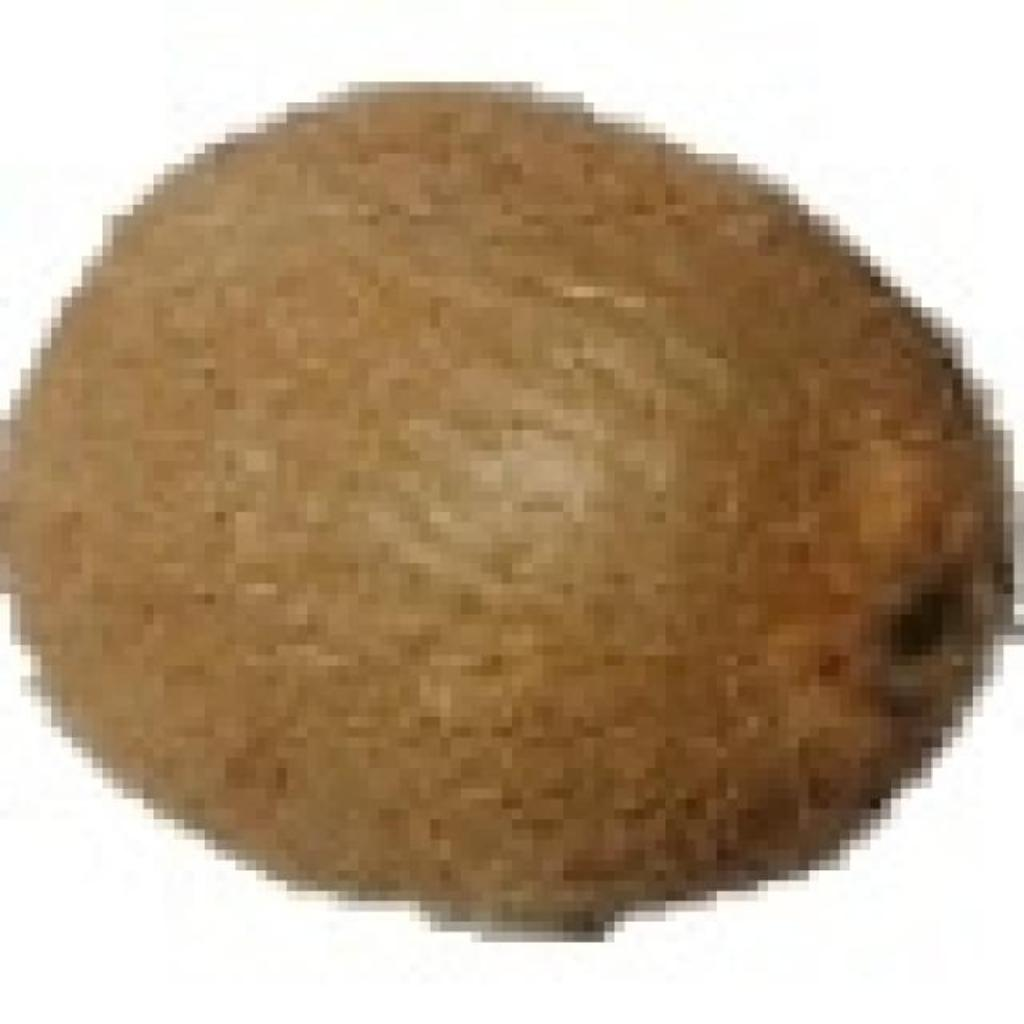kiwi: (10, 72, 983, 911)
